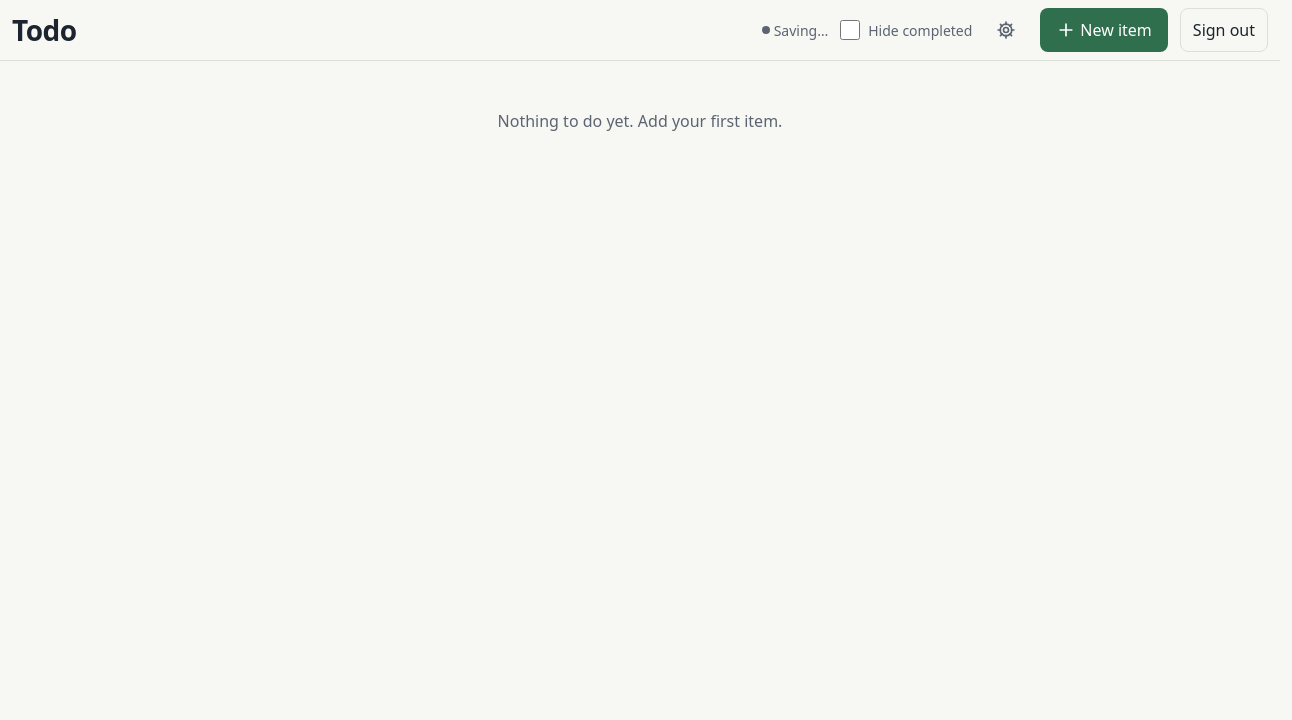
Toolbar › adds a top-level item through the editor
Click the button "New item" at (1104, 30), box [1040,8,1168,52]
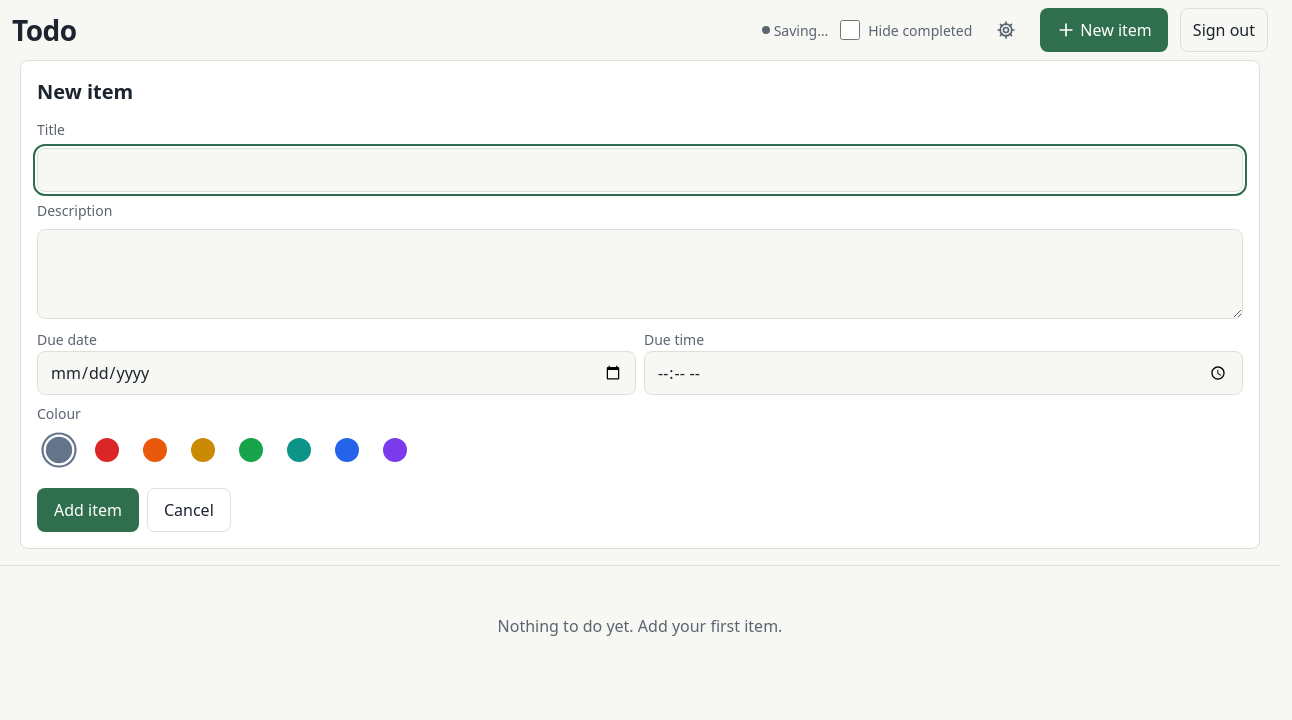
Type "Groceries" into the field labelled "Title" at (640, 170), box [37,148,1243,192]
Then press Enter
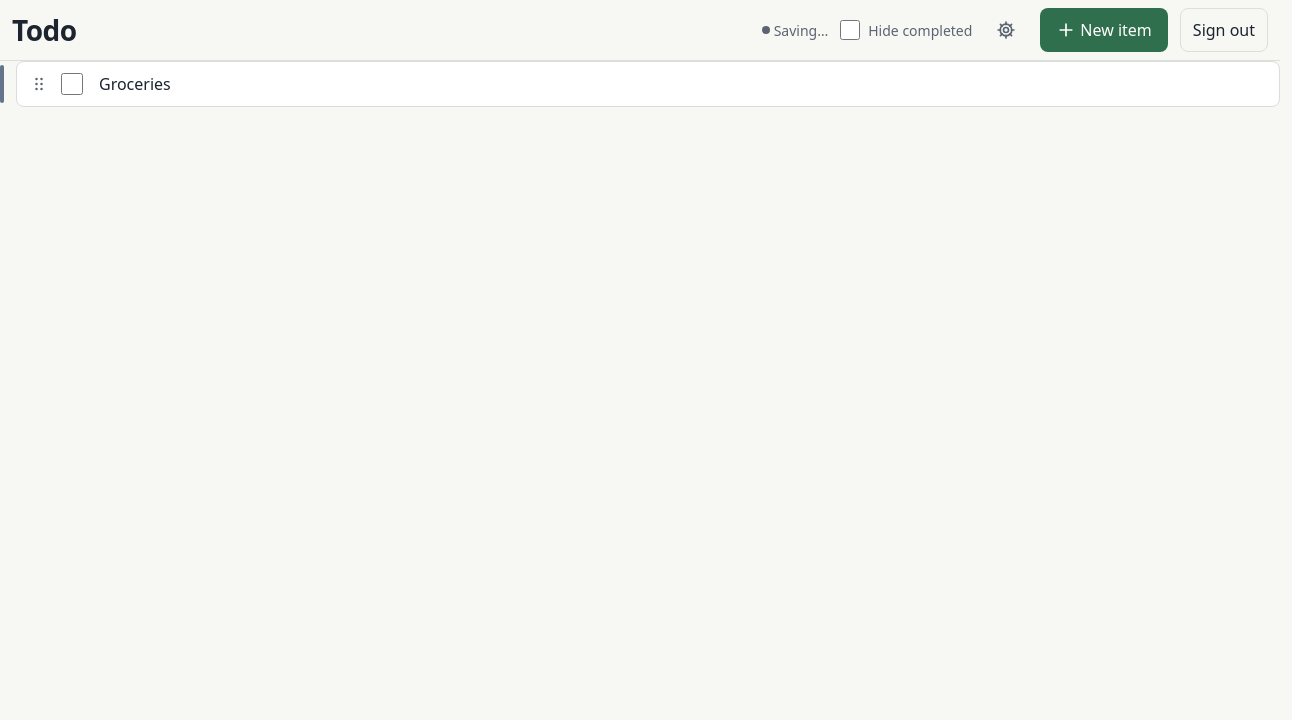
expect the list item "Groceries" is shown: met, box [0,61,1280,107]
